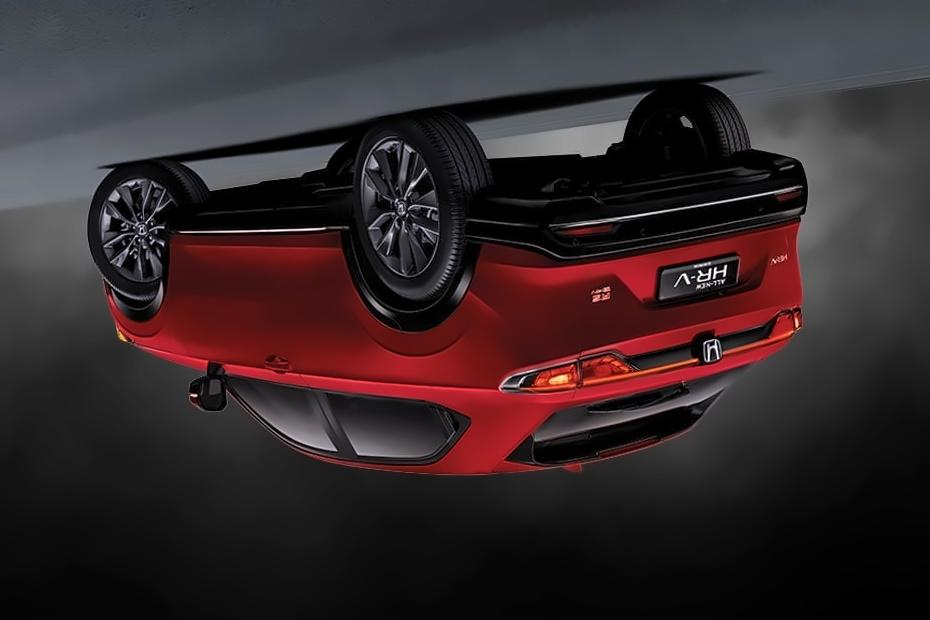Driver-s door - -F-R-: (172, 215, 344, 499)
Front bumper: (92, 281, 164, 355)
Rear bumper: (446, 188, 811, 354)
Rear light - -L-: (772, 295, 808, 344)
Rear light - -R-: (492, 347, 645, 403)
Side bumper - -R-: (160, 178, 366, 264)
Side mirror - -R-: (189, 368, 228, 420)
